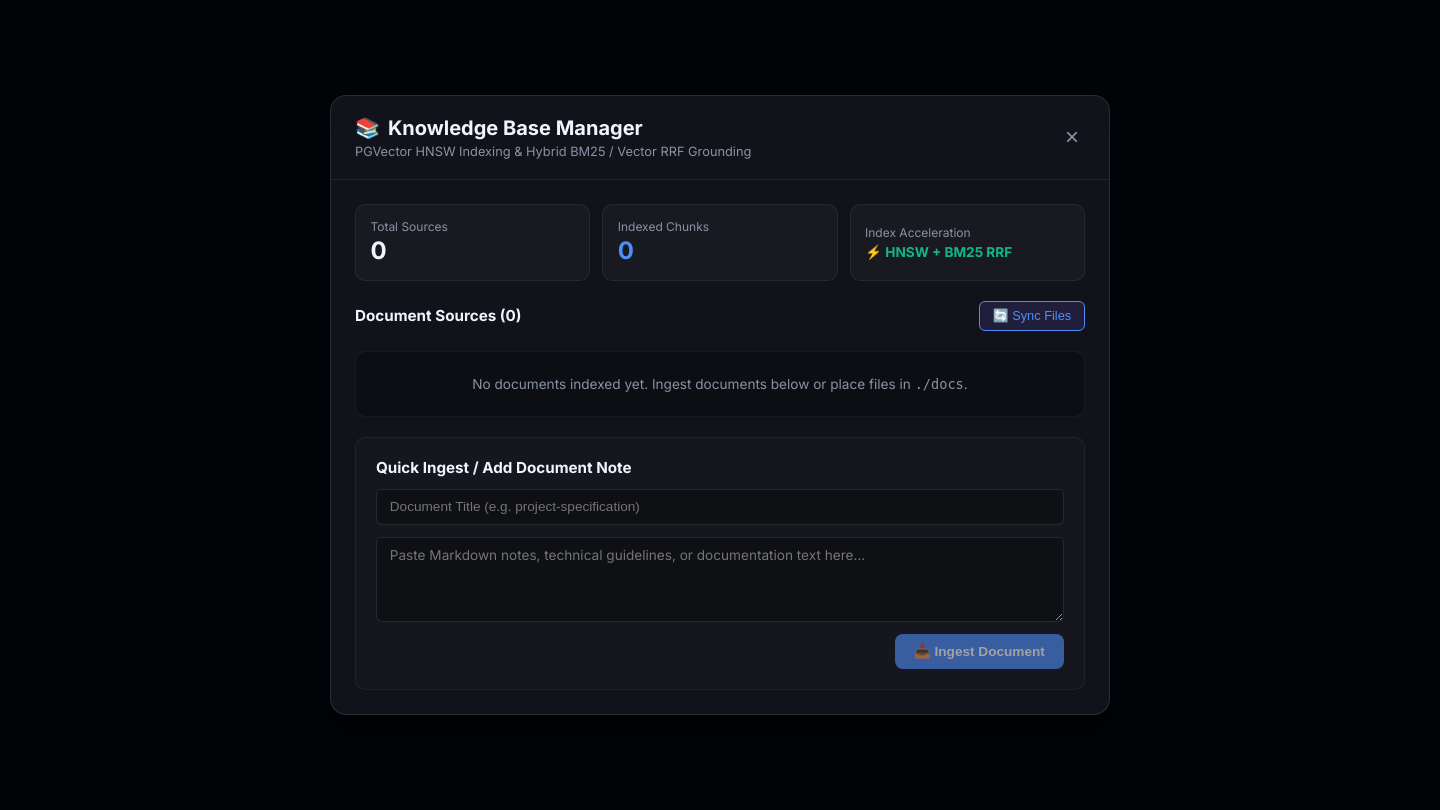
KnowledgeBaseModal Component › submits raw document note and refreshes list
This screenshot has width=1440, height=810.
In the field with placeholder "Document Title (e.g. project-specification)": (720, 507) x1=376 y1=488 x2=1064 y2=525, type "release-notes"
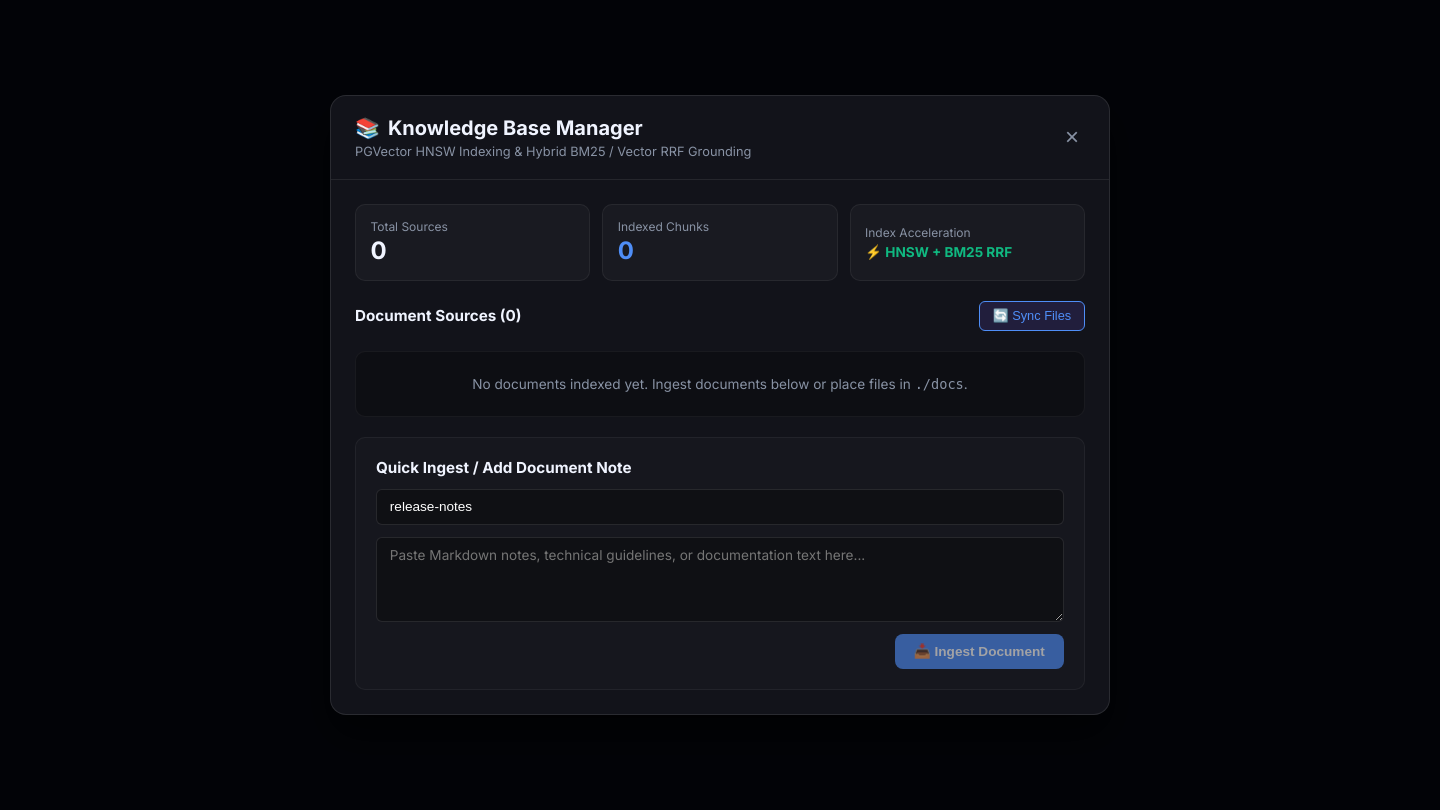
Replace the text in the text box with placeholder "Paste Markdown notes" with "v2.0 includes pgvector HNSW and hybrid RRF.": (720, 579) x1=376 y1=537 x2=1064 y2=622
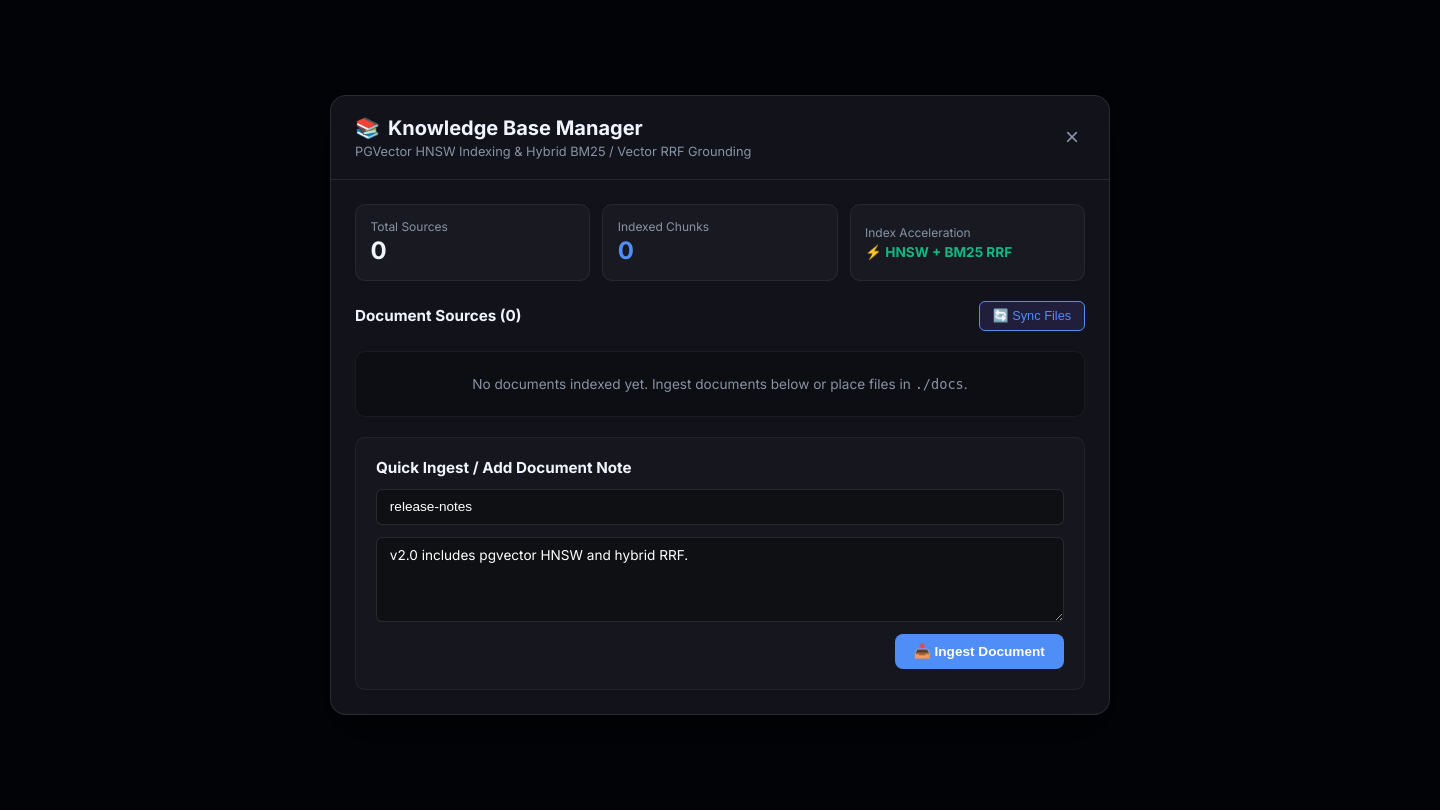
Click the button "📥 Ingest Document": (979, 652) x1=895 y1=634 x2=1064 y2=669
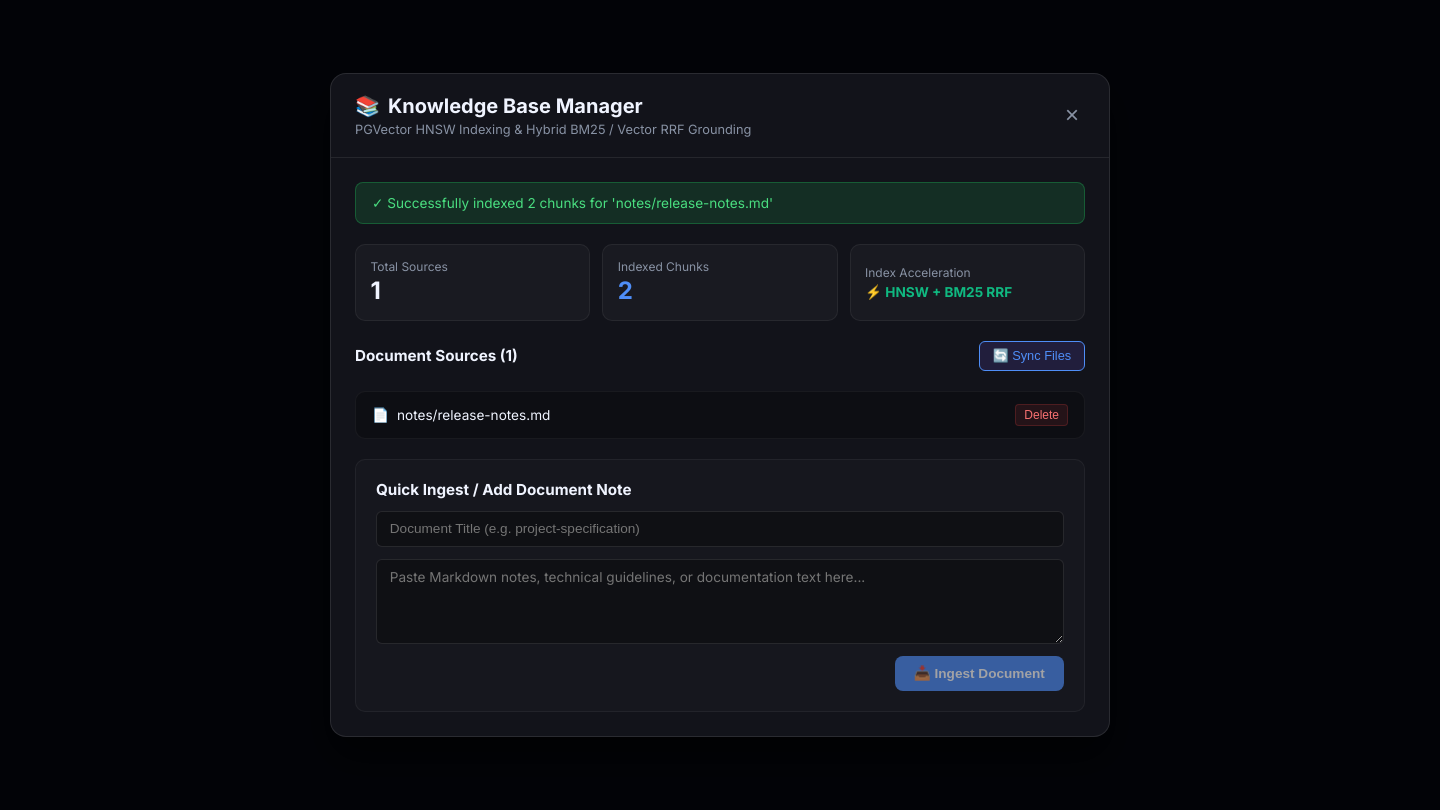
Now the text "✓ Successfully indexed 2 chunks for 'notes/release-notes.md'" is shown, box x1=355 y1=182 x2=1085 y2=224
